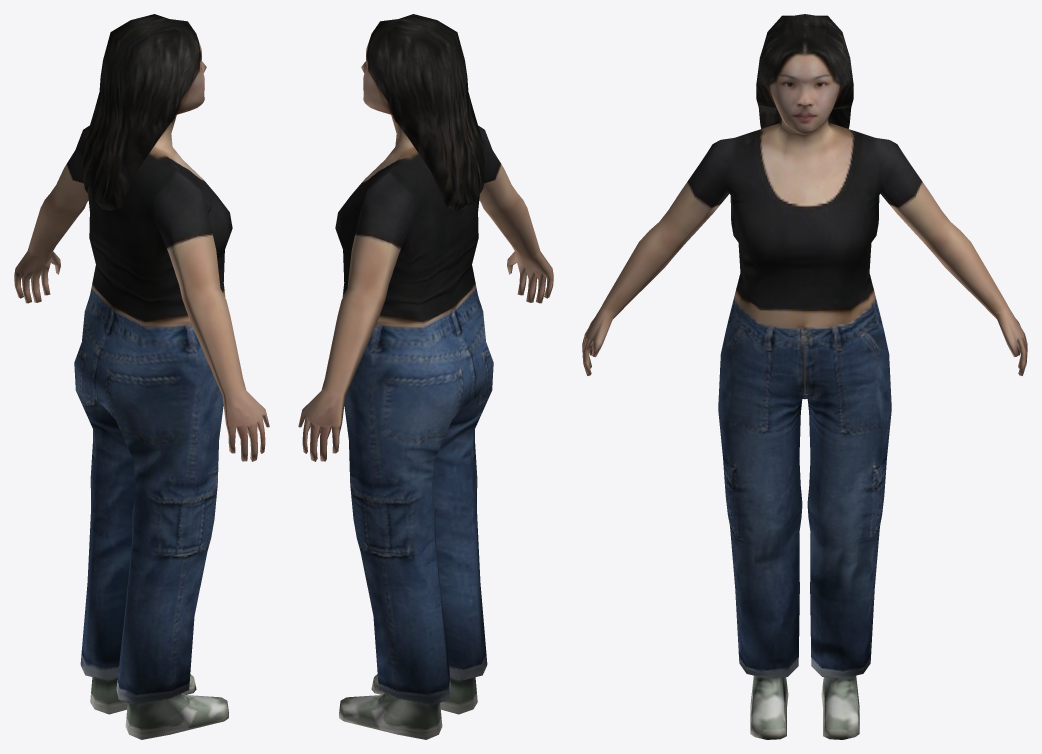
File: Character_52_Female.fbx
3 views of the same model, side by side, from view 1: azimuth 30°, elevation 25°; view 2: azimuth 150°, elevation 25°; view 3: azimuth 270°, elevation 25° (orthographic).
Visible parts, largest first — view 1: Character_52_Female; view 2: Character_52_Female; view 3: Character_52_Female.
Boxes of the visible parts, x1,y1,x2,y2 form: Character_52_Female: (14,14,269,739); Character_52_Female: (298,14,553,739); Character_52_Female: (582,14,1027,739).
Size of the model in its own units: 0.3051 by 1.67 by 0.9726.
